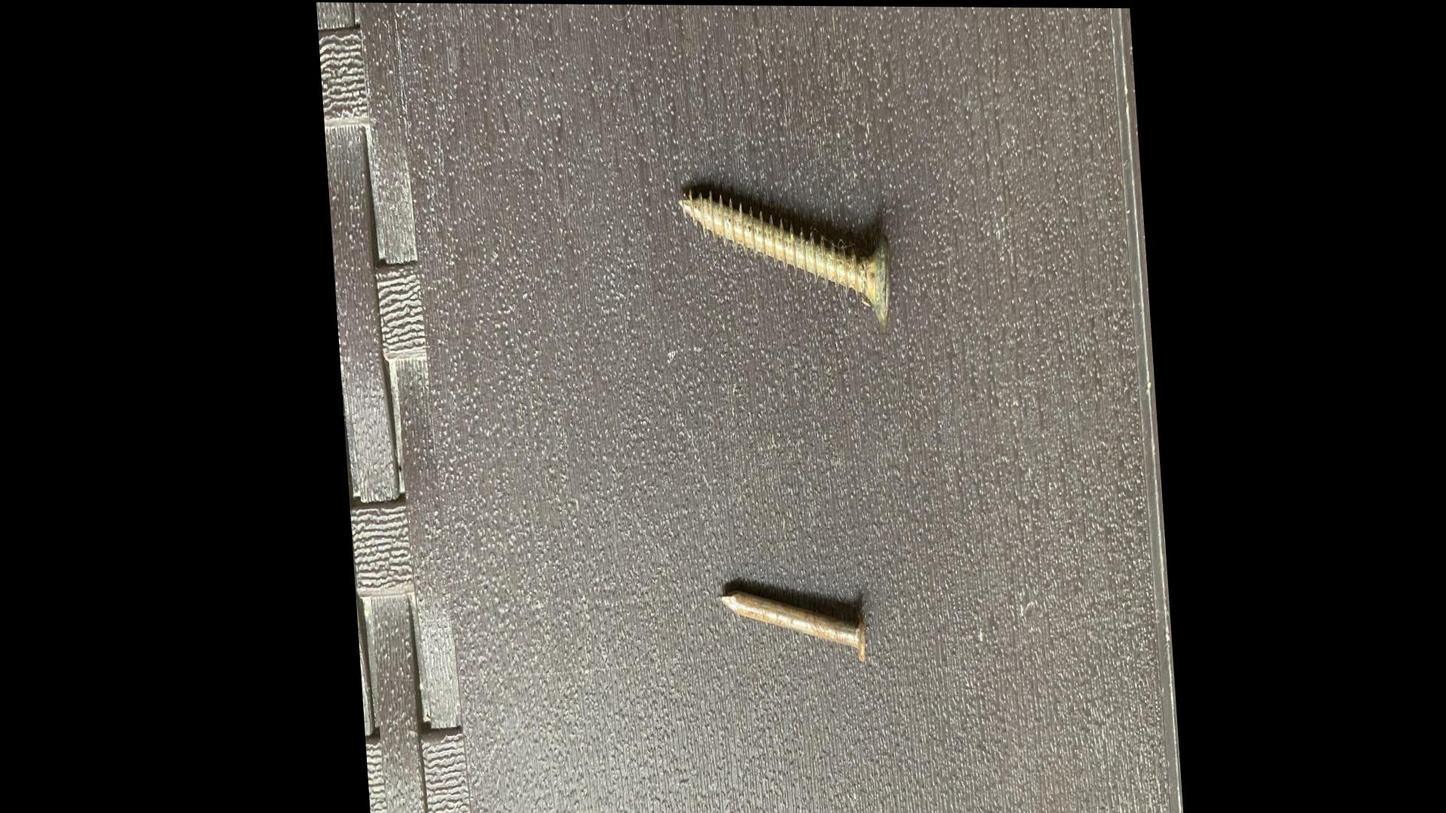nail: (688, 562, 879, 694)
screw: (632, 144, 907, 358)
